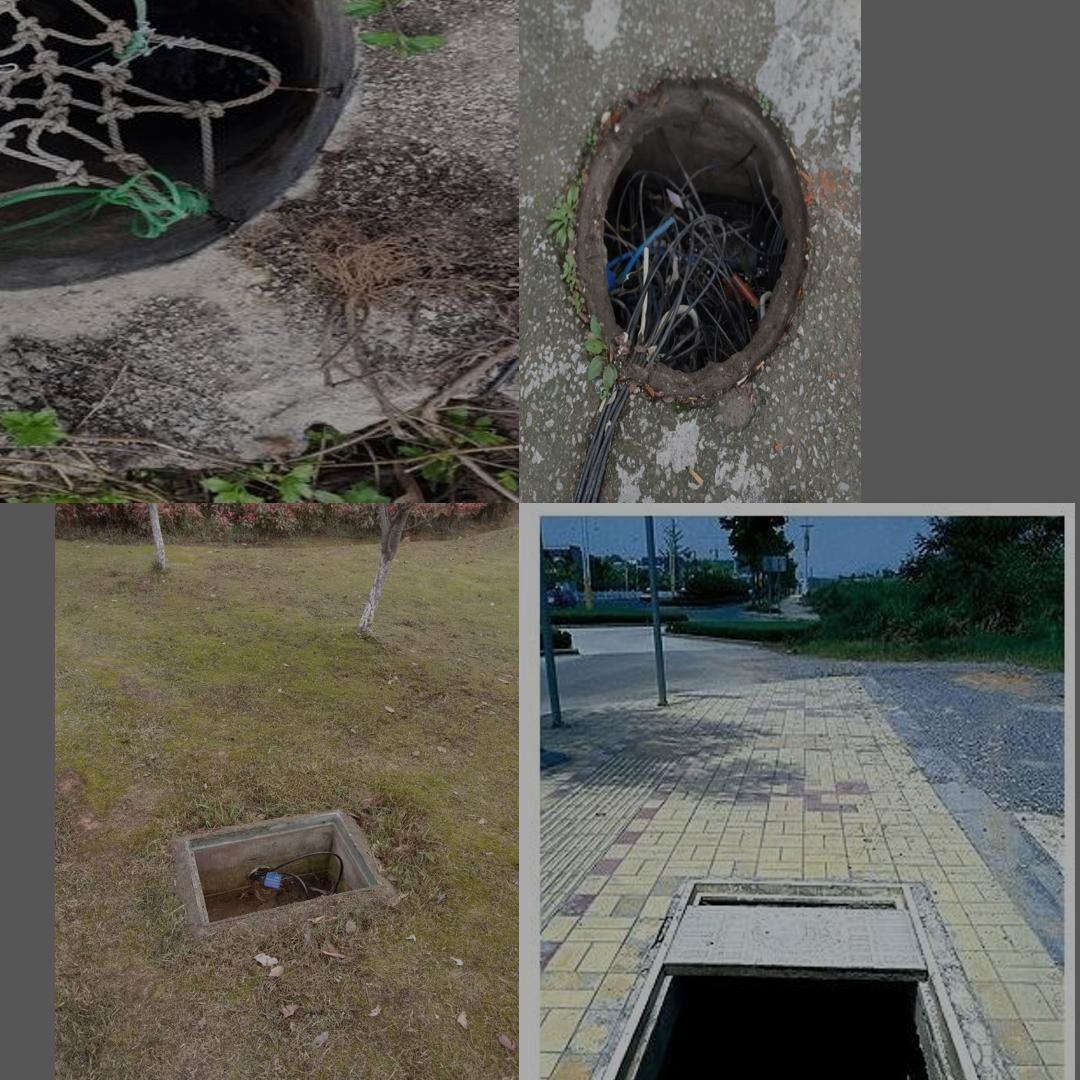lose: (0, 0, 407, 378), (557, 868, 1006, 1080), (567, 71, 818, 403), (175, 808, 381, 932)
